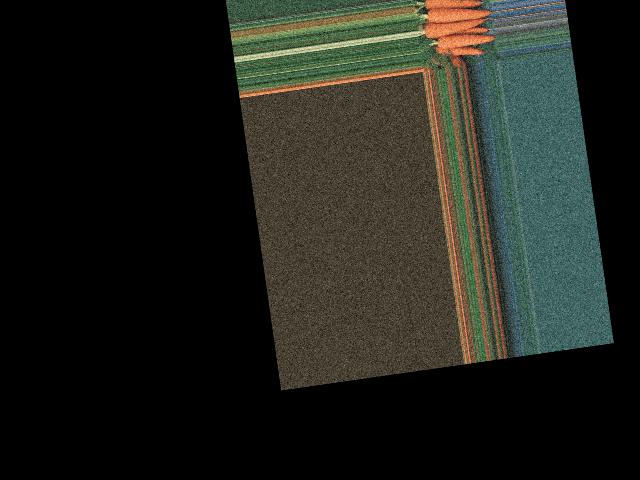carrot: (433, 28, 493, 54)
